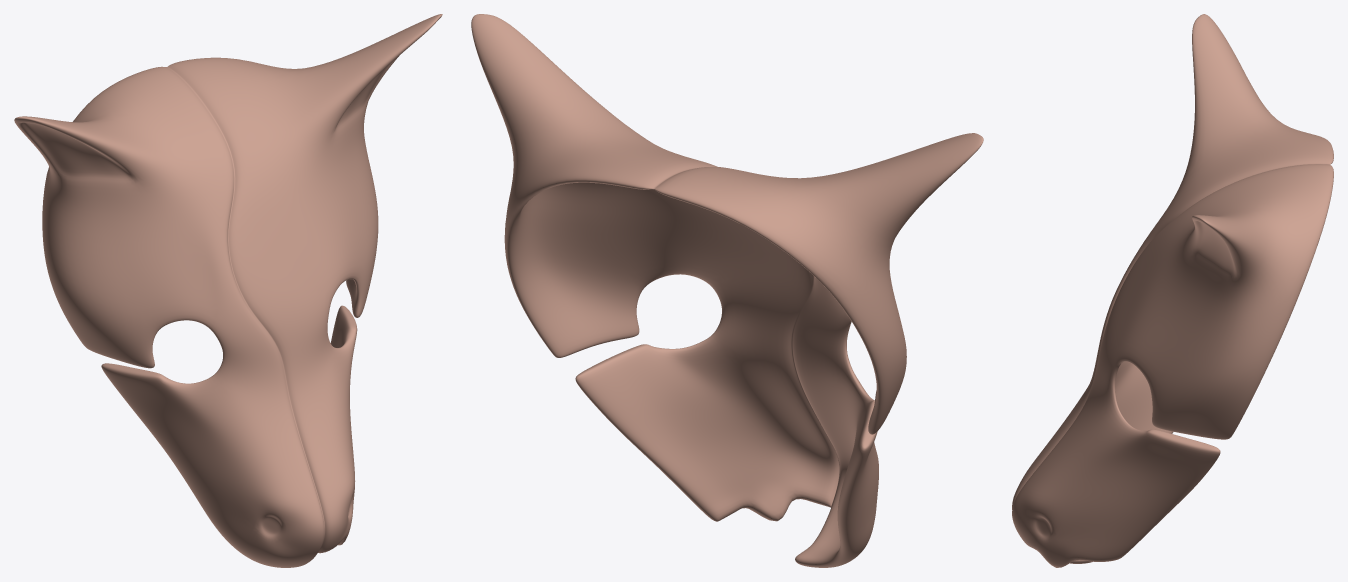
The model's file is Mask 1.fbx.
3 views of the same model, side by side, from view 1: azimuth 30°, elevation 25°; view 2: azimuth 150°, elevation 25°; view 3: azimuth 270°, elevation 25° (orthographic). The views are drawn at different scales.
Parts seen in each view (by area): view 1: Mask; view 2: Mask; view 3: Mask.
Boxes of the visible parts, x1,y1,x2,y2 form: Mask: (14,14,442,567); Mask: (471,14,983,567); Mask: (1012,14,1333,567).
Bounding box in the file's own units: 65.75 × 66.32 × 43.08.
